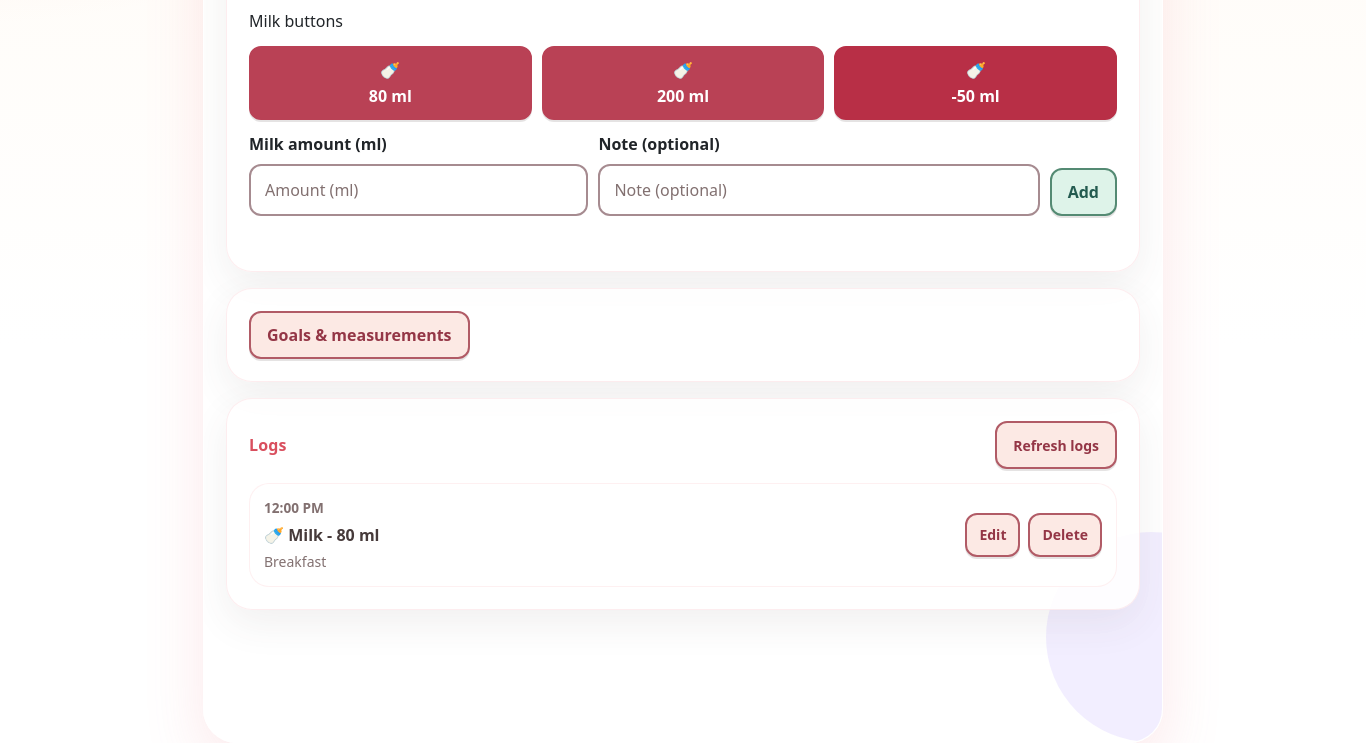
Test: deletion needs confirmation and edit sends a correction
This screenshot has width=1366, height=743.
Later steps or results of the test are not shown.
(page scrolled)
Check: the text "Breakfast" is shown, box top-left (264, 552), bottom-right (326, 571)
Click the button with aria-label "Delete milk entry 1": (1065, 535) top-left (1028, 513), bottom-right (1102, 557)
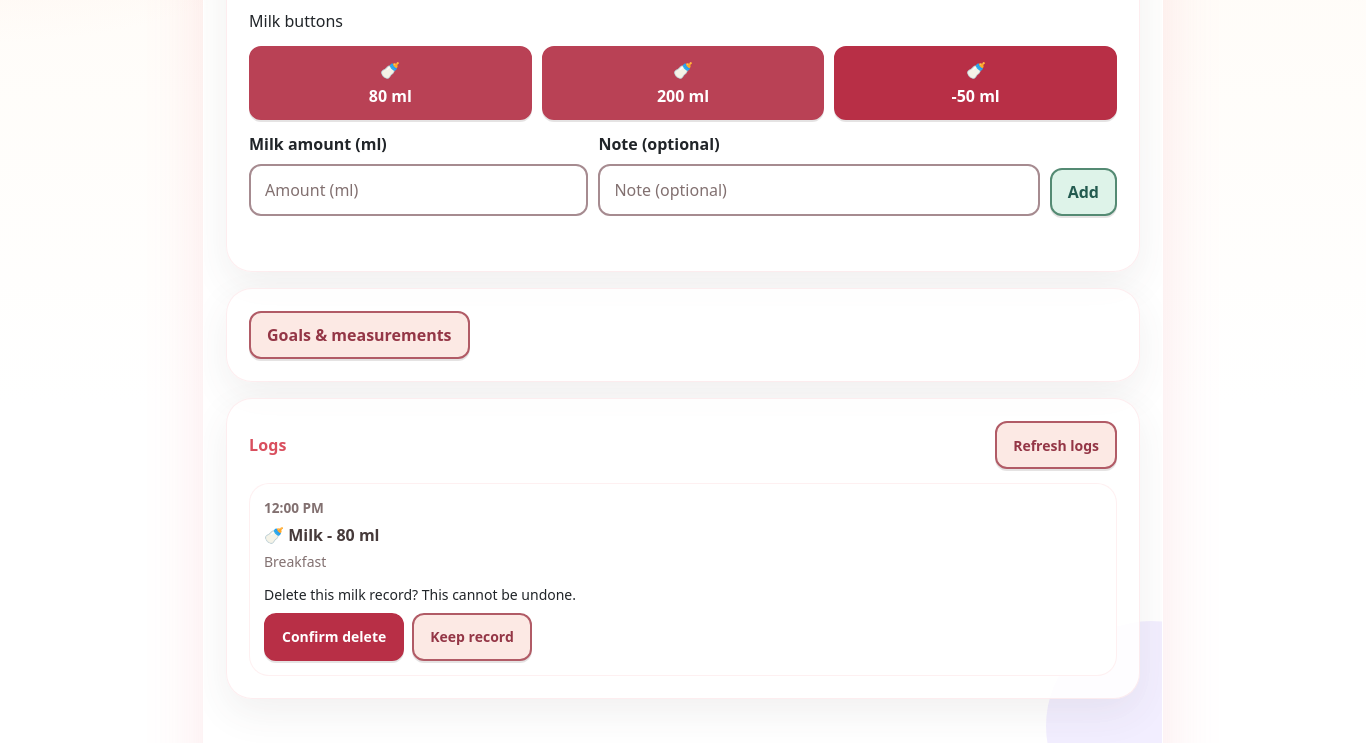
Click the button "Keep record": (472, 637) top-left (412, 613), bottom-right (532, 661)
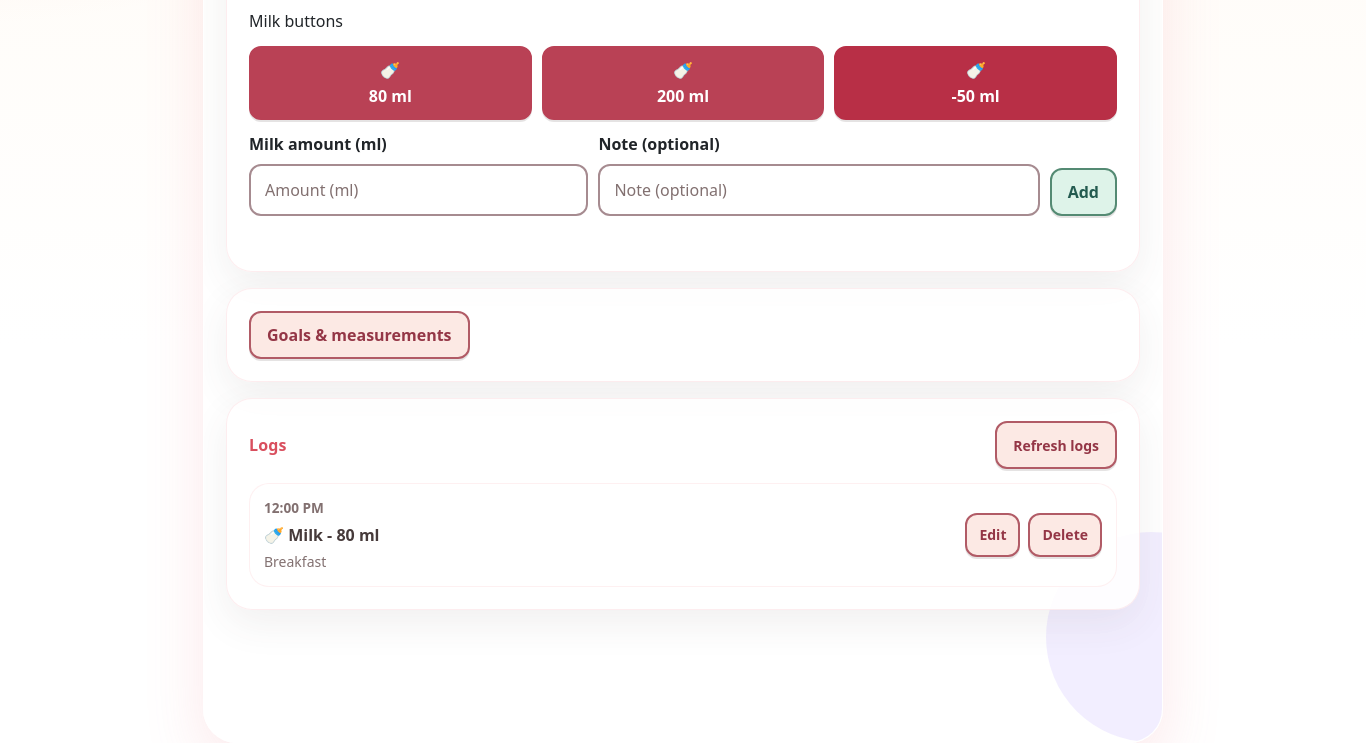
Click the button with aria-label "Edit milk entry 1": (993, 535) top-left (965, 513), bottom-right (1020, 557)
(page scrolled)
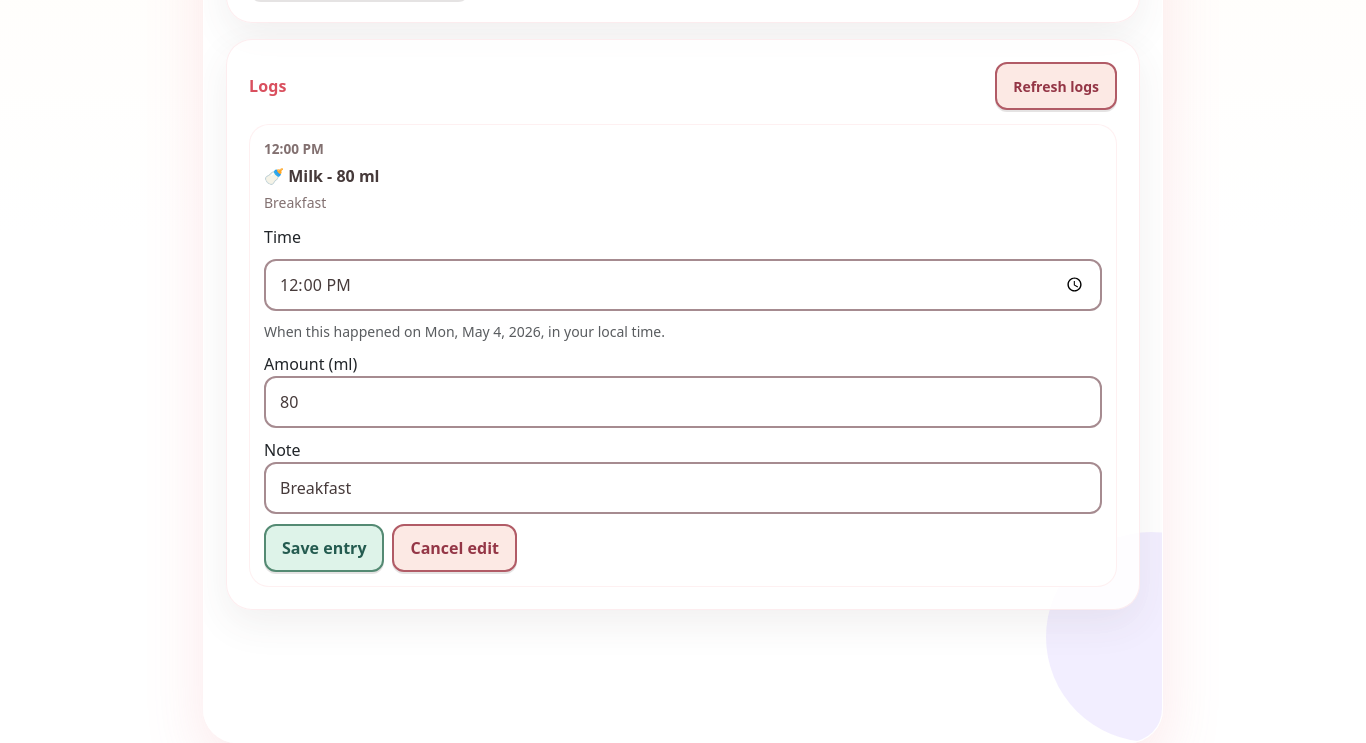
Replace the text in the number field labelled "Amount (ml)" with "95": (683, 402) top-left (264, 376), bottom-right (1102, 428)
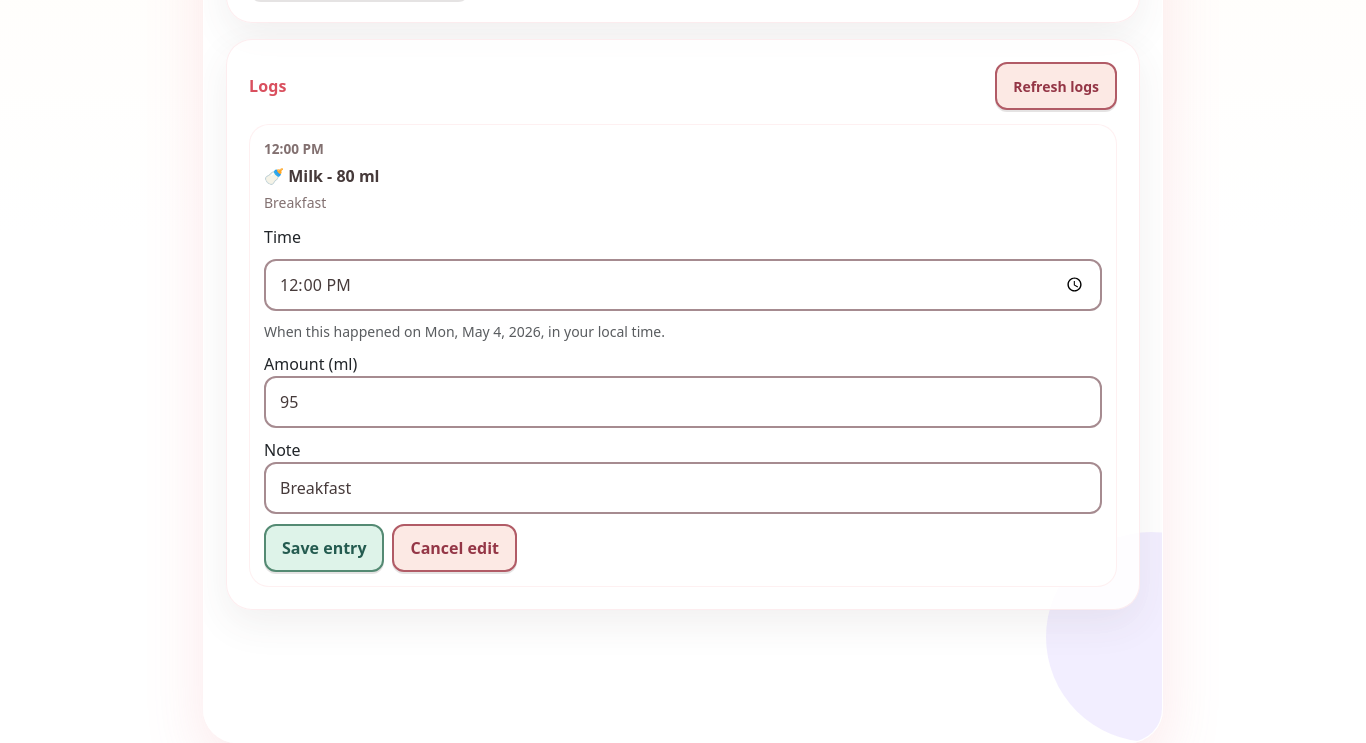
Click the button "Save entry": (324, 548) top-left (264, 524), bottom-right (384, 572)
(page scrolled)
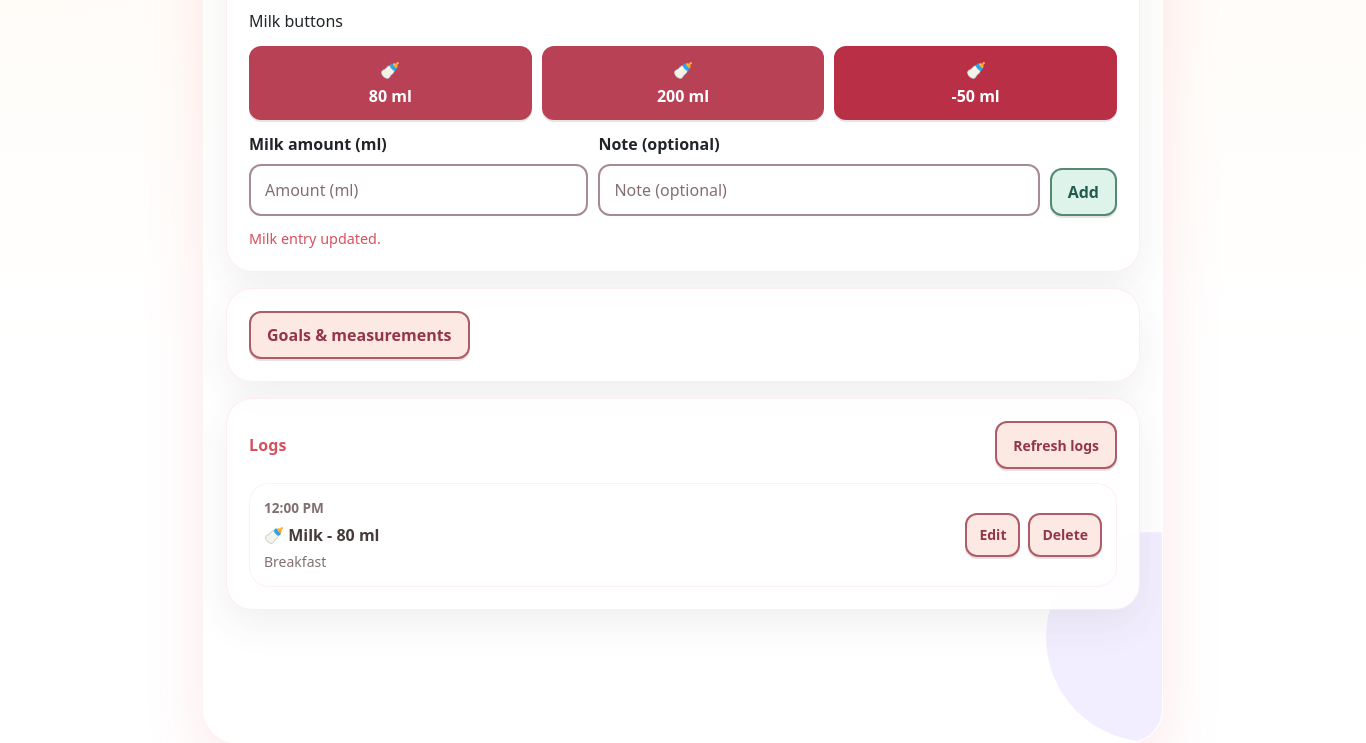
Check: the text "Milk entry updated." is shown, box top-left (249, 229), bottom-right (381, 248)
